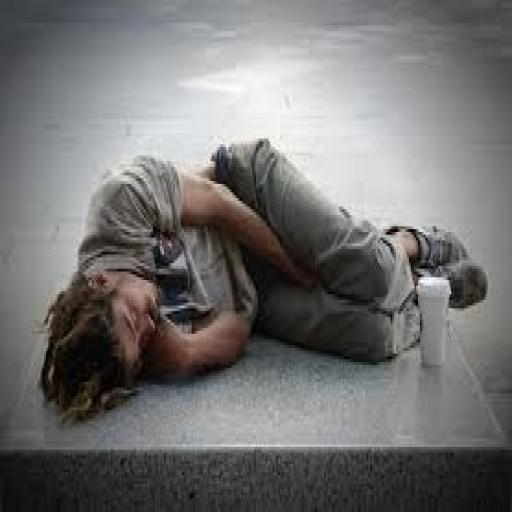sleeping: (37, 133, 490, 424)
